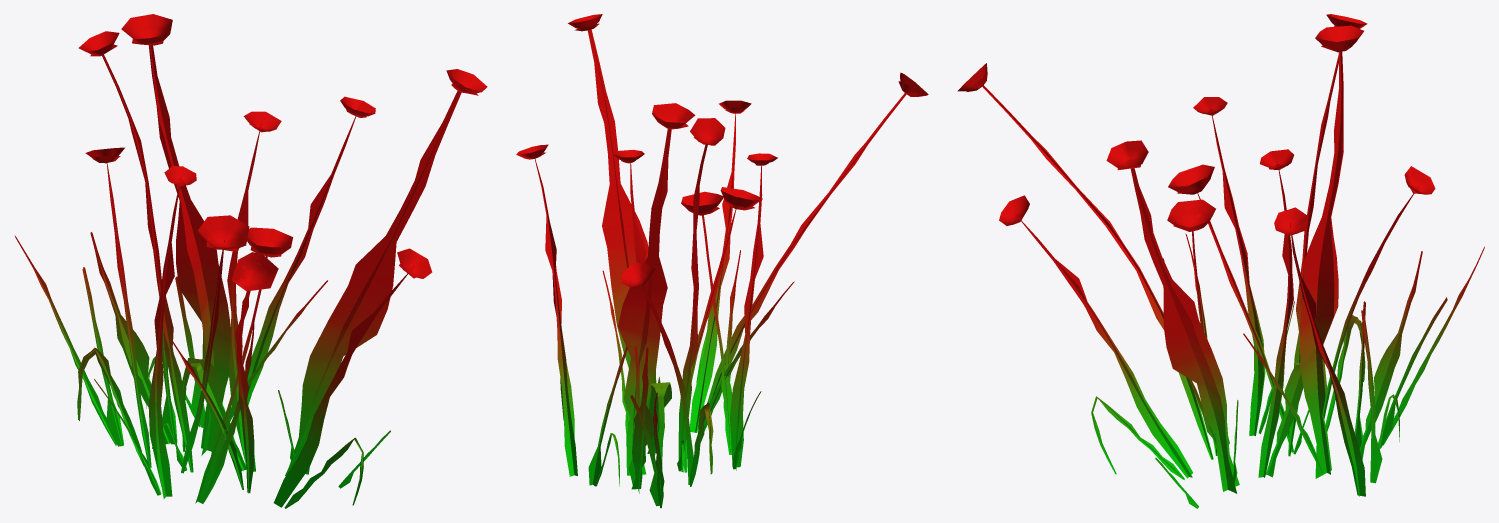
The model's file is White Everlasting_LOD0_Var7_ucvobbbia.fbx.
3 views of the same model, side by side, from view 1: azimuth 30°, elevation 25°; view 2: azimuth 150°, elevation 25°; view 3: azimuth 270°, elevation 25° (orthographic). The views are drawn at different scales.
Visible parts, largest first — view 1: _0f4a_Var7_LOD0; view 2: _0f4a_Var7_LOD0; view 3: _0f4a_Var7_LOD0.
Part boxes in pixels (x1,y1,x2,y2): _0f4a_Var7_LOD0: (14,14,487,508); _0f4a_Var7_LOD0: (516,14,928,508); _0f4a_Var7_LOD0: (957,14,1484,508).
Bounding box in the file's own units: 42.48 × 54.04 × 61.18.
